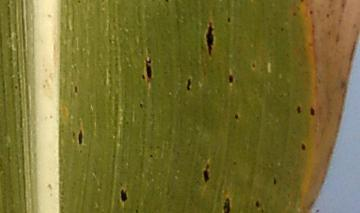tarspot: (202, 18, 219, 57), (143, 52, 154, 84), (200, 162, 213, 183), (221, 194, 234, 213), (117, 187, 130, 205), (75, 127, 85, 148), (293, 102, 304, 118), (183, 78, 194, 93), (226, 72, 236, 86), (298, 140, 308, 154), (252, 198, 263, 209), (308, 105, 316, 118), (224, 15, 234, 25), (232, 111, 240, 121)
